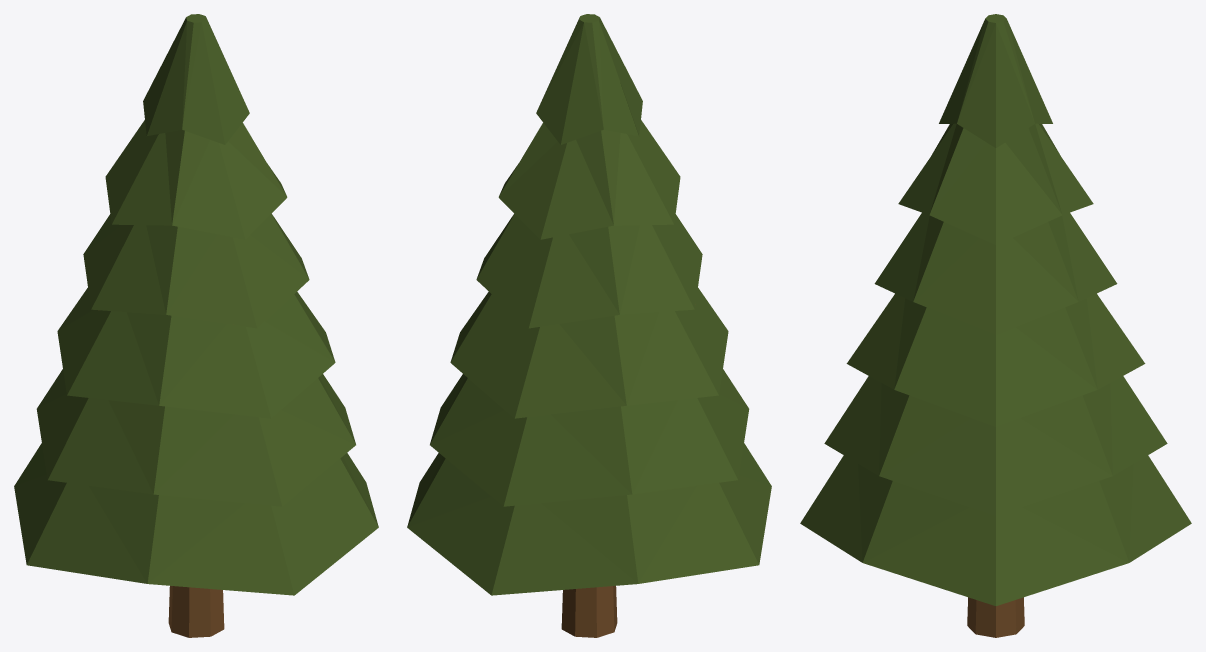
The model's file is tree-BAKED.obj.
The picture shows the model from 3 angles, left to right: view 1: azimuth 30°, elevation 25°; view 2: azimuth 150°, elevation 25°; view 3: azimuth 270°, elevation 25°; orthographic projection.
Visible parts, largest first — view 1: Cylinder; view 2: Cylinder; view 3: Cylinder.
Part boxes in pixels (x1,y1,x2,y2): Cylinder: [14, 14, 378, 637]; Cylinder: [407, 14, 771, 637]; Cylinder: [800, 14, 1191, 637].
Bounding box in the file's own units: 3.71 × 6.34 × 3.71.
Materials: 1 (1 with a texture image).
